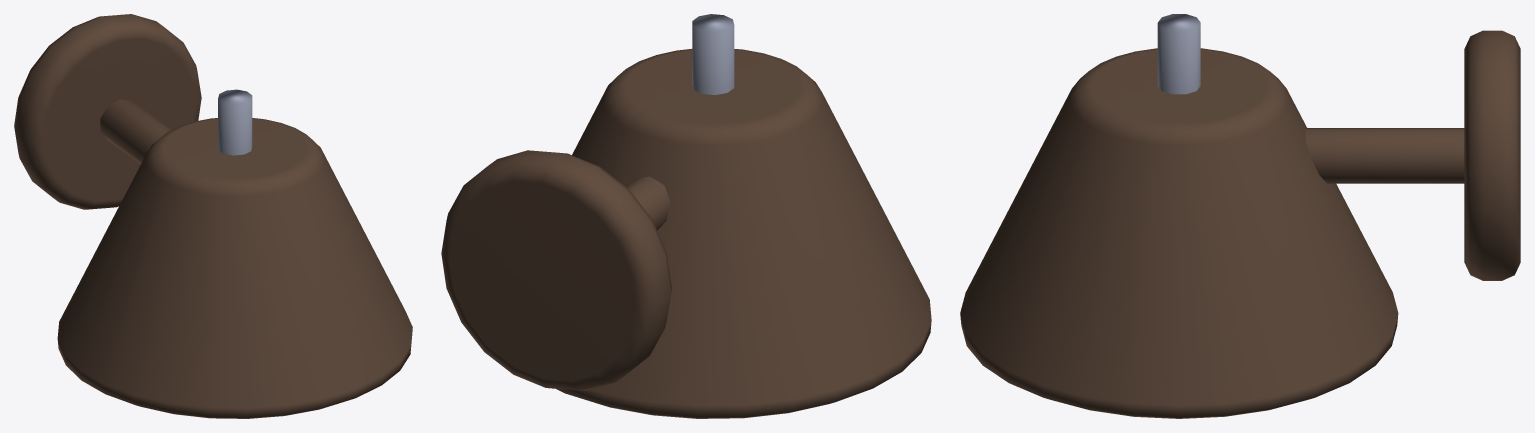
File: walllamp.glb
3 renders of one model, left to right at view 1: azimuth 30°, elevation 25°; view 2: azimuth 150°, elevation 25°; view 3: azimuth 270°, elevation 25°, orthographic. The views are drawn at different scales.
Visible parts, largest first — view 1: walllamp; view 2: walllamp; view 3: walllamp.
Boxes of the visible parts, x1,y1,x2,y2 form: walllamp: (14, 14, 412, 418); walllamp: (441, 14, 931, 418); walllamp: (960, 14, 1520, 418).
Size of the model in its own units: 0.2238 by 0.1744 by 0.2863.
